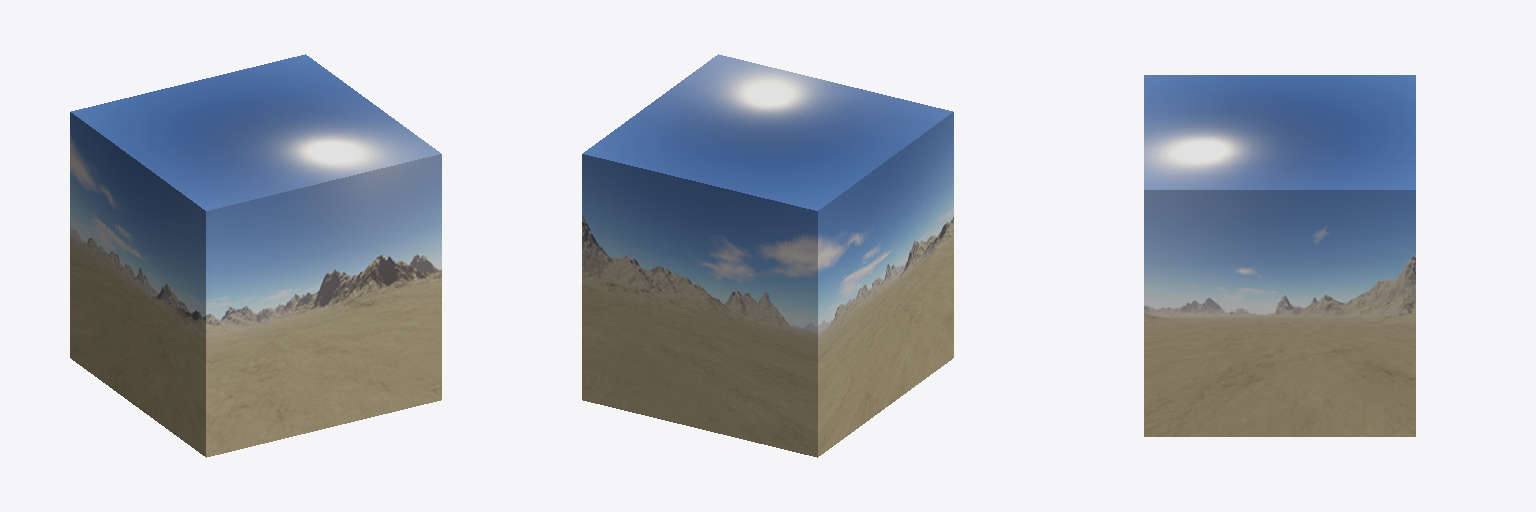
3 renders of one model, left to right at view 1: azimuth 30°, elevation 25°; view 2: azimuth 150°, elevation 25°; view 3: azimuth 270°, elevation 25°, orthographic.
Visible parts, largest first — view 1: Cube; view 2: Cube; view 3: Cube.
Part boxes in pixels (x1,y1,x2,y2): Cube: (70, 54, 441, 457); Cube: (582, 54, 953, 457); Cube: (1144, 75, 1415, 436).
Bounding box in the file's own units: 2 × 2 × 2.
1 materials, 1 textured.